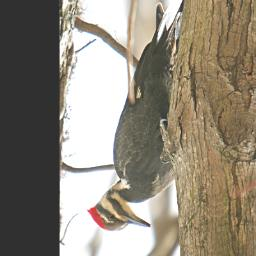Woodpecker: (86, 0, 187, 233)
